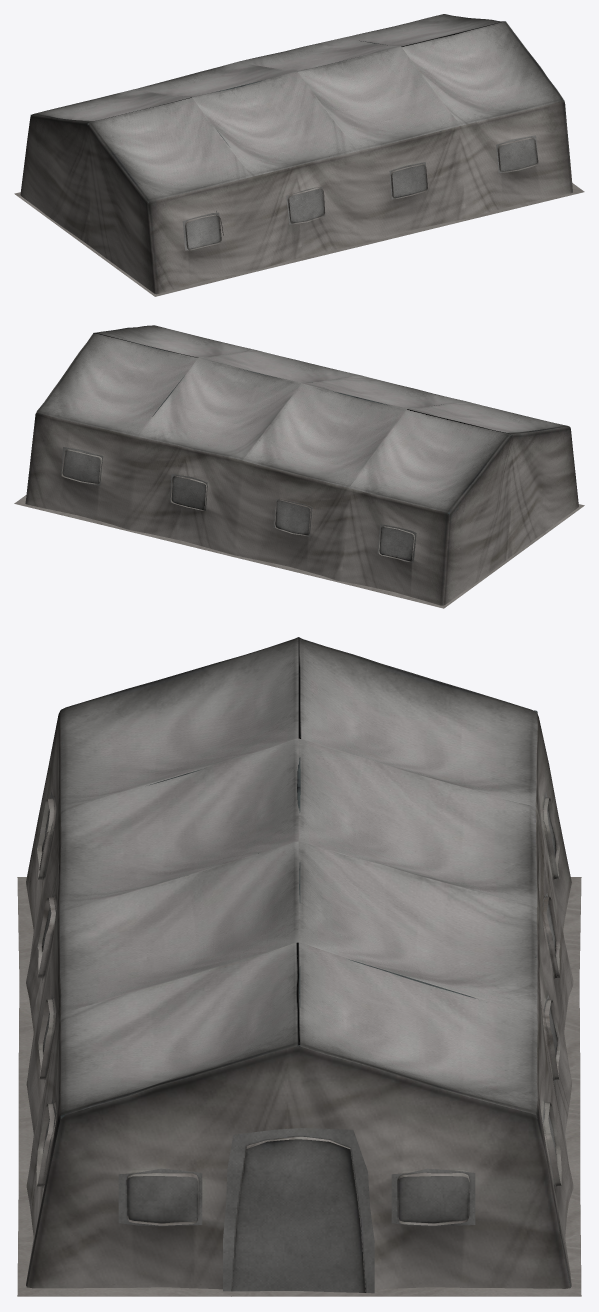
The model's file is HomeLayout.FBX.
3 views of the same model, one above another, from view 1: azimuth 30°, elevation 25°; view 2: azimuth 150°, elevation 25°; view 3: azimuth 270°, elevation 25° (orthographic). The views are drawn at different scales.
Parts seen in each view (by area): view 1: HomeLayout; view 2: HomeLayout; view 3: HomeLayout.
Boxes of the visible parts, <box> form: HomeLayout: <box>14,14,584,296</box>; HomeLayout: <box>14,325,584,608</box>; HomeLayout: <box>17,637,581,1296</box>.
Size of the model in its own units: 1547 by 424 by 879.
Materials: 1 (1 with a texture image).
